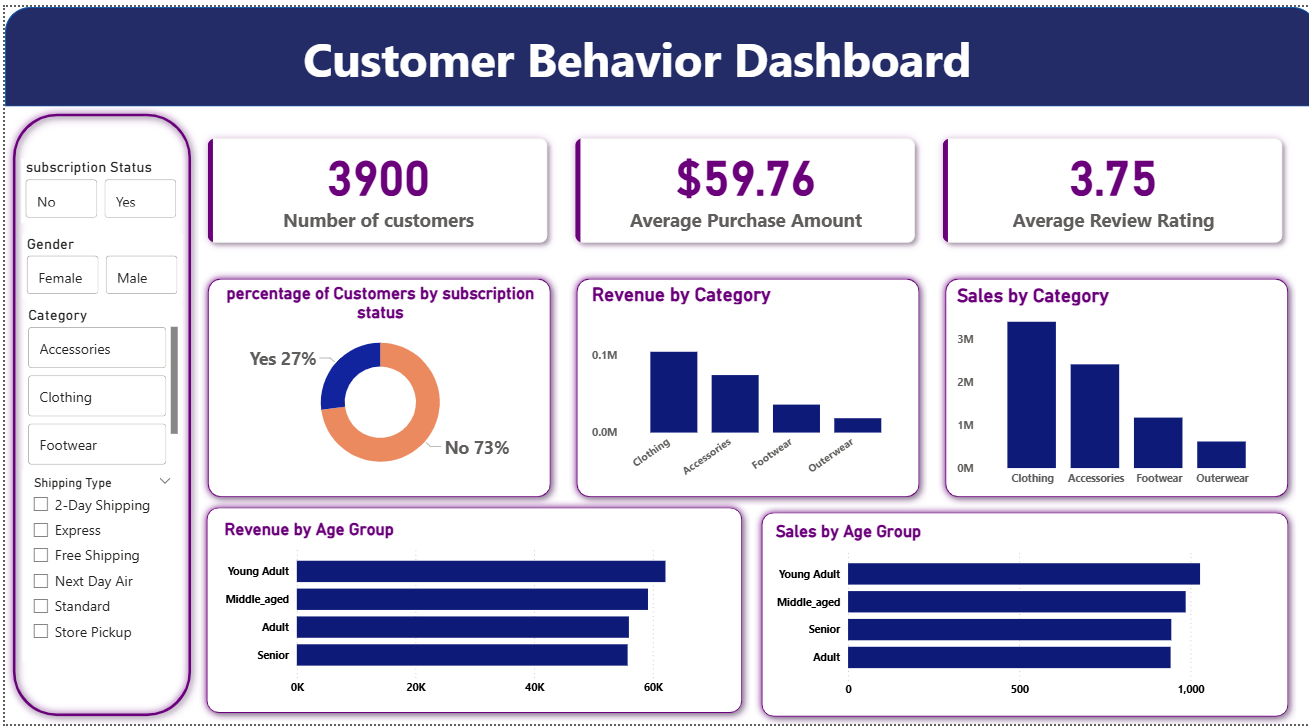

The dashboard page shown, as its layout file describes it:
{"tool":"powerbi","page":{"name":"Page 1","canvas":[1500,820],"ordinal":0},"visuals":[{"type":"cardVisual","fields":{"Data":["public customer.Number of customers","public customer.Average Purchase Amount","public customer.Average Review Rating"]},"box":[202.9,121.4,1287.1,177.1],"z":0},{"type":"shape","box":[0,0,1500.3,113.7],"z":1000},{"type":"textbox","box":[0,16.7,1445.1,97],"z":2000},{"type":"shape","box":[1065.5,301.1,409.8,267.6],"z":3000},{"type":"shape","box":[222.5,301.1,409.8,267.6],"z":4000},{"type":"donutChart","title":"percentage of Customers by subscription status","fields":{"Category":["public customer.subscription_status"],"Y":["CountNonNull(public customer.customer_id)"]},"box":[244.2,316.1,369.6,229.1],"z":5000},{"type":"shape","box":[644,301.1,409.8,267.6],"z":6000},{"type":"clusteredColumnChart","title":"Revenue by Category","fields":{"Y":["Sum(public customer.purchase_amount)"],"Category":["public customer.category"]},"box":[665.7,316.1,371.3,240.9],"z":7000},{"type":"clusteredColumnChart","title":"Sales by Category","fields":{"Y":["Sum(public customer.customer_id)"],"Category":["public customer.category"]},"box":[1083.3,316.7,371.7,240],"z":8000},{"type":"shape","box":[0,113.3,221.7,706.7],"z":9000},{"type":"advancedSlicerVisual","fields":{"Values":["public customer.subscription_status"]},"box":[18.3,173.3,183.3,73.3],"z":10000},{"type":"advancedSlicerVisual","fields":{"Values":["public customer.gender"]},"box":[20,260,183.3,73.3],"z":11000},{"type":"advancedSlicerVisual","fields":{"Values":["public customer.category"]},"box":[21.7,341.7,181.7,188.3],"z":12000},{"type":"slicer","fields":{"Values":["public customer.shipping_type"]},"box":[20,530,181.7,218.3],"z":13000},{"type":"shape","box":[221.4,562.9,630,252.9],"z":14000},{"type":"clusteredBarChart","title":"Revenue by Age Group","fields":{"Y":["Sum(public customer.purchase_amount)"],"Category":["public customer.age_group"]},"box":[245.7,585.7,578.6,210],"z":15000},{"type":"shape","box":[855.7,568.6,620,251.4],"z":15001},{"type":"clusteredBarChart","title":"Sales by Age Group","fields":{"Y":["CountNonNull(public customer.customer_id)"],"Category":["public customer.age_group"]},"box":[875.7,588.6,578.6,210],"z":15002}]}

Visuals, with their boxes in screenshot pixels (x1, y1, x2, y2), scaled from the page's 1500x820 canvas onto the 1309x726 screenshot:
cardVisual - public customer.Number of customers x public customer.Average Purchase Amount: box(177, 107, 1300, 264)
shape: box(0, 0, 1308, 101)
textbox: box(0, 15, 1261, 101)
shape: box(930, 267, 1287, 504)
shape: box(194, 267, 552, 504)
"percentage of Customers by subscription status" donutChart: box(213, 280, 536, 483)
shape: box(562, 267, 920, 504)
"Revenue by Category" clusteredColumnChart: box(581, 280, 905, 493)
"Sales by Category" clusteredColumnChart: box(945, 280, 1270, 493)
shape: box(0, 100, 193, 725)
advancedSlicerVisual - public customer.subscription_status: box(16, 153, 176, 218)
advancedSlicerVisual - public customer.gender: box(17, 230, 177, 295)
advancedSlicerVisual - public customer.category: box(19, 303, 178, 469)
slicer - public customer.shipping_type: box(17, 469, 176, 663)
shape: box(193, 498, 743, 722)
"Revenue by Age Group" clusteredBarChart: box(214, 519, 719, 704)
shape: box(747, 503, 1288, 725)
"Sales by Age Group" clusteredBarChart: box(764, 521, 1269, 707)
